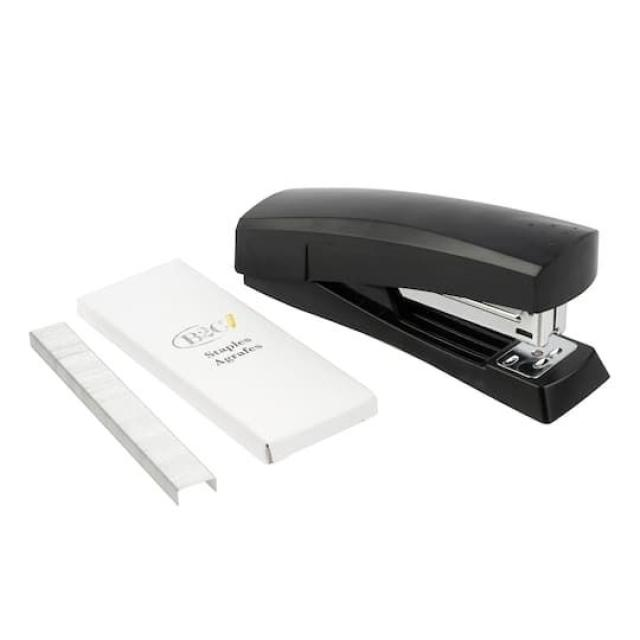Stapler: (226, 103, 636, 449)
